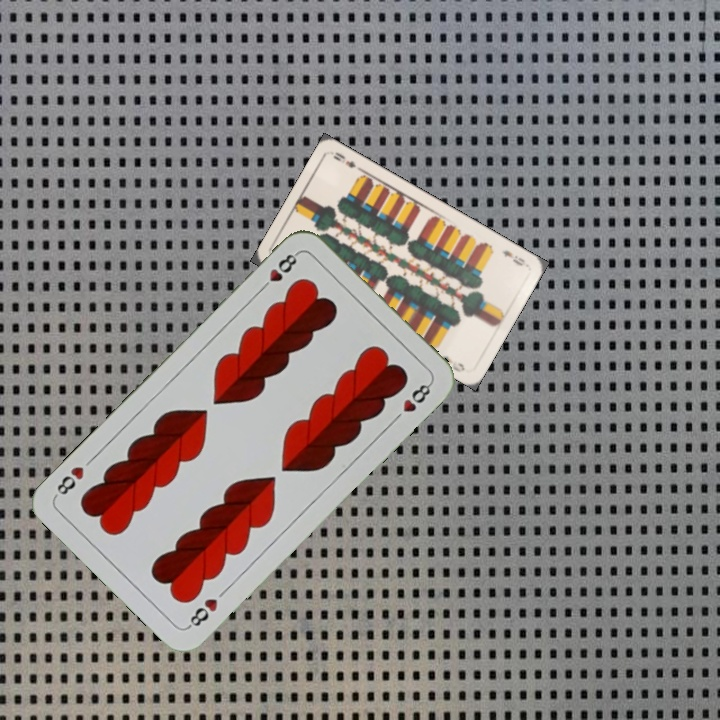E9: (498, 246, 530, 269)
H8: (256, 248, 302, 294), (184, 594, 221, 631)
